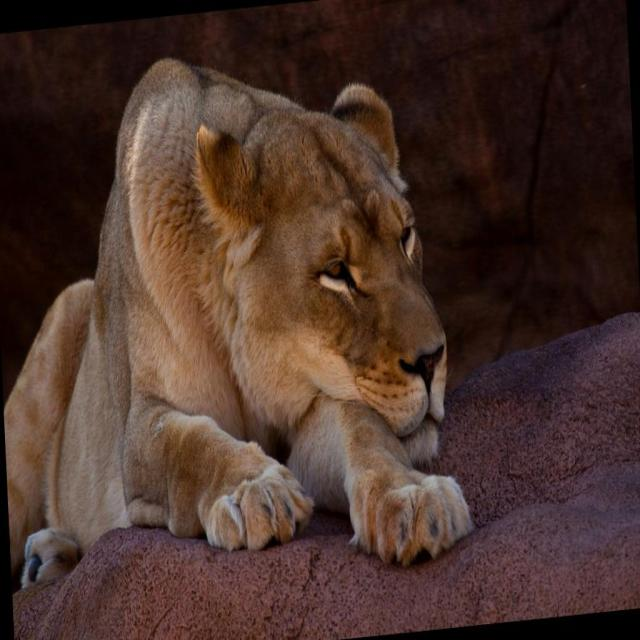Lion: (0, 26, 474, 608)
